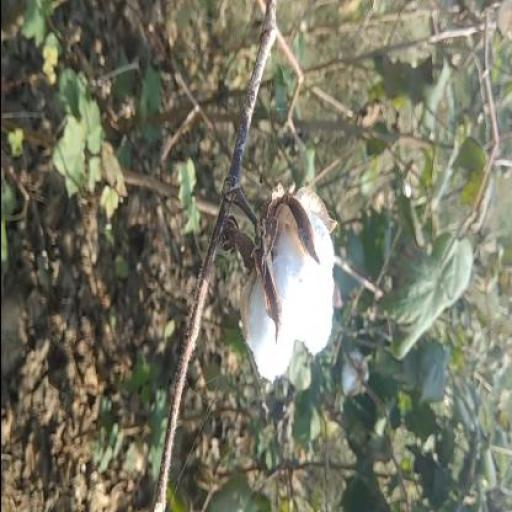cotton_ready: (198, 173, 348, 380)
